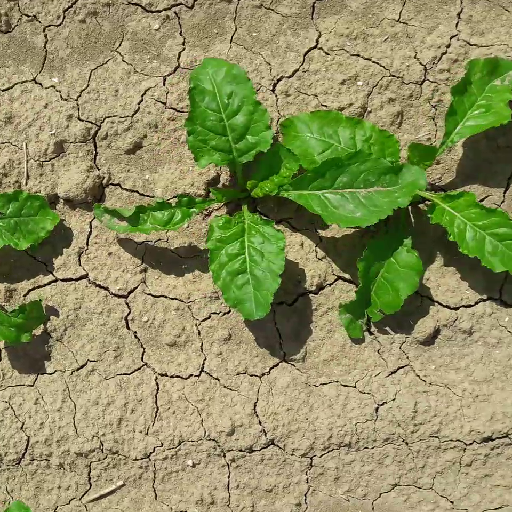sugarbeet: (81, 59, 402, 322), (276, 48, 512, 344)
